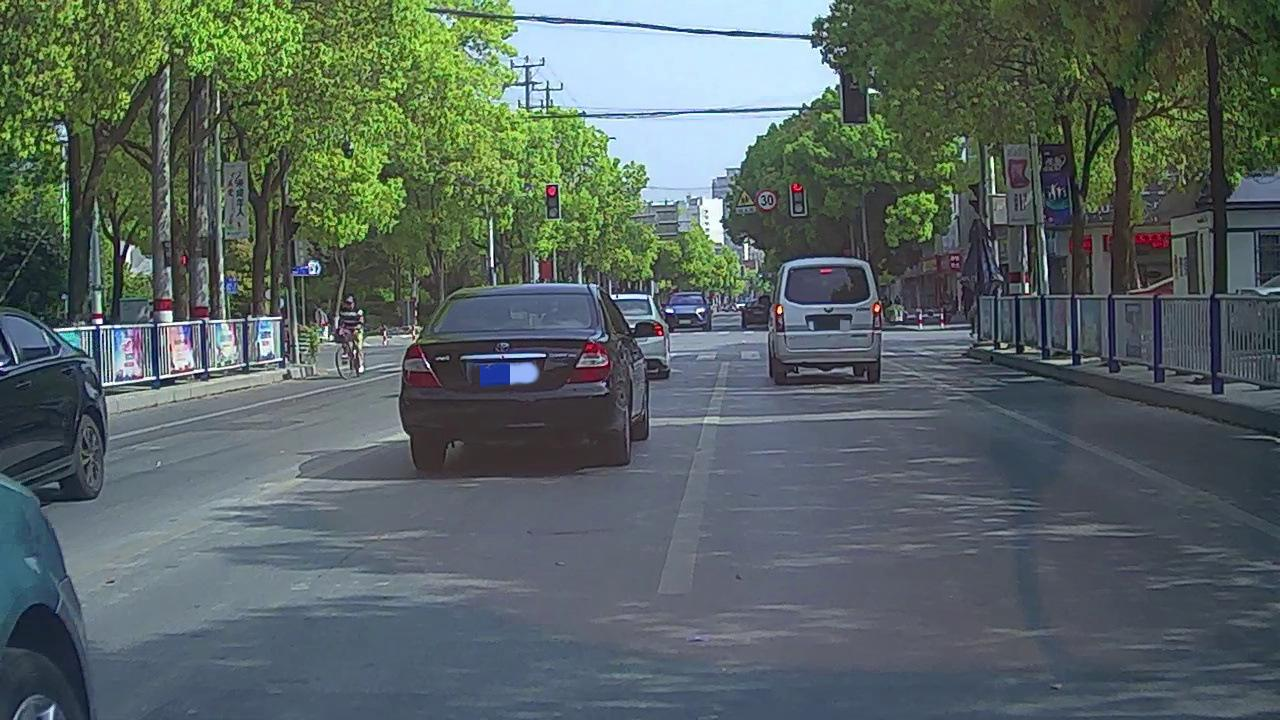traffic_light: (791, 180, 807, 216), (546, 185, 559, 219)
